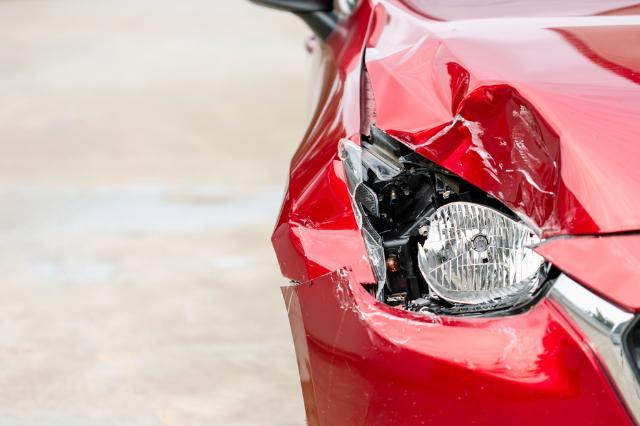Bonnet: (374, 35, 611, 233)
Bumper: (274, 288, 584, 426)
Fender: (270, 152, 360, 276)
Light: (338, 144, 522, 315)
